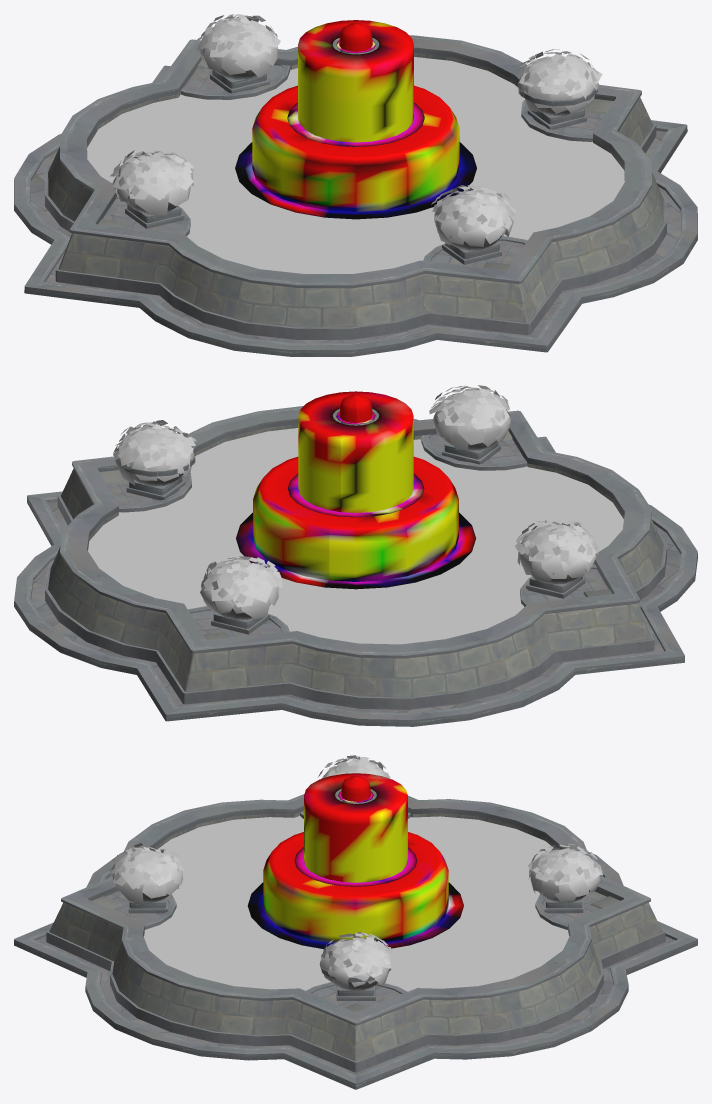
The model's file is Homeworld_Exterior_Md_Build_Fountain_01_Lod0.fbx.
The picture shows the model from 3 angles, top to bottom: view 1: azimuth 30°, elevation 25°; view 2: azimuth 150°, elevation 25°; view 3: azimuth 270°, elevation 25°; orthographic projection. The views are drawn at different scales.
Parts seen in each view (by area): view 1: Area_MdBuild_Fountain03_Lod0, Plane001, Area_MdBuild_Fountain04_Water_Vo, Area_MdBuild_Fountain03_F_Lod0; view 2: Area_MdBuild_Fountain03_Lod0, Plane001, Area_MdBuild_Fountain04_Water_Vo, Area_MdBuild_Fountain03_F_Lod0; view 3: Area_MdBuild_Fountain03_Lod0, Plane001, Area_MdBuild_Fountain04_Water_Vo, Area_MdBuild_Fountain03_F_Lod0.
Part boxes in pixels (left/top/right/bottom): Area_MdBuild_Fountain03_Lod0: left=14, top=35, right=697, bottom=356; Plane001: left=87, top=57, right=624, bottom=273; Area_MdBuild_Fountain04_Water_Vo: left=235, top=20, right=476, bottom=219; Area_MdBuild_Fountain03_F_Lod0: left=110, top=14, right=602, bottom=246; Area_MdBuild_Fountain03_Lod0: left=14, top=406, right=697, bottom=726; Plane001: left=88, top=428, right=623, bottom=644; Area_MdBuild_Fountain04_Water_Vo: left=236, top=391, right=475, bottom=589; Area_MdBuild_Fountain03_F_Lod0: left=113, top=385, right=598, bottom=619; Area_MdBuild_Fountain03_Lod0: left=14, top=789, right=697, bottom=1089; Plane001: left=144, top=816, right=569, bottom=991; Area_MdBuild_Fountain04_Water_Vo: left=247, top=773, right=463, bottom=949; Area_MdBuild_Fountain03_F_Lod0: left=109, top=755, right=602, bottom=987.
Size of what is drawn, in the model's own units: 10.05 by 2.78 by 10.05.
